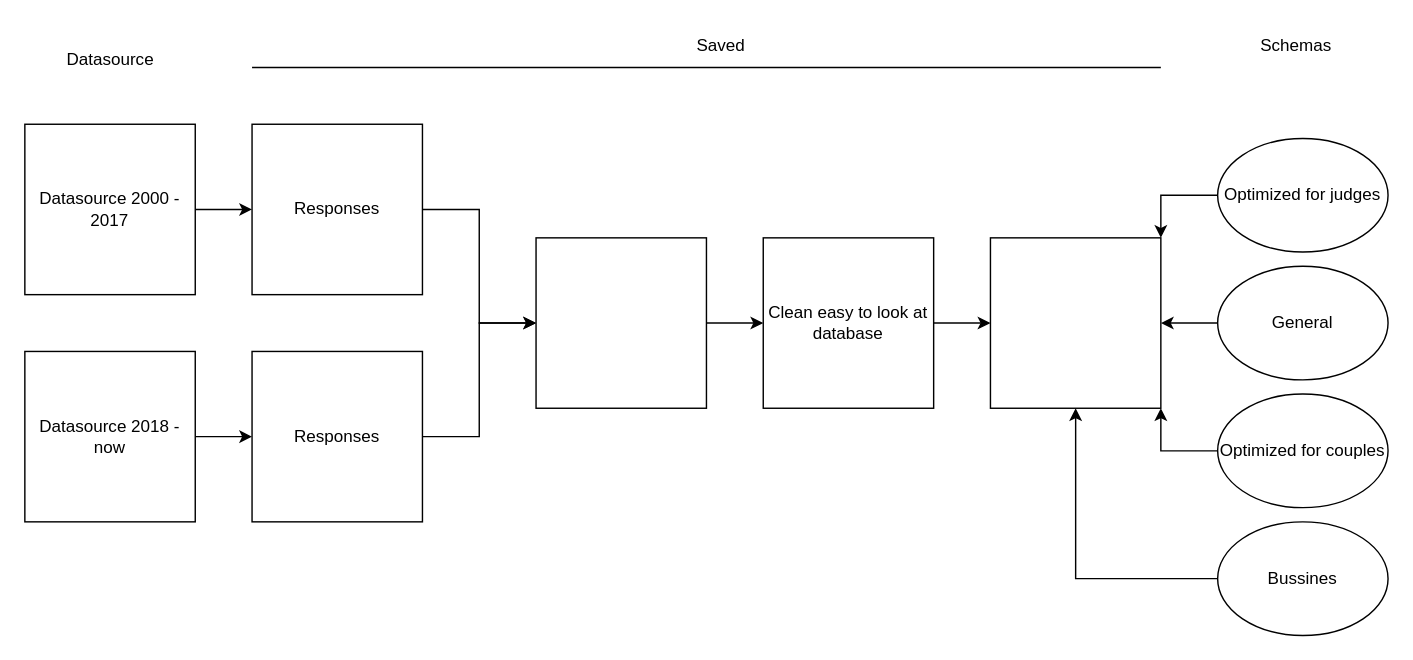
Some shapes in this 1413 by 660 pixel diagram are drawn without their labels. The box of each missing label's shape, as (x1, y1, x2, y2) in pixels:
Database for website: (989, 236, 1161, 408)
Raw easy to look at database: (535, 236, 706, 408)
